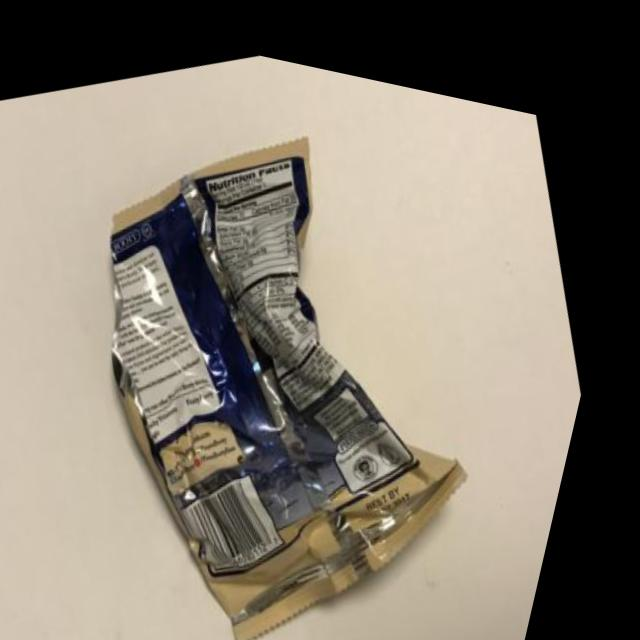trash: (0, 15, 624, 640)
